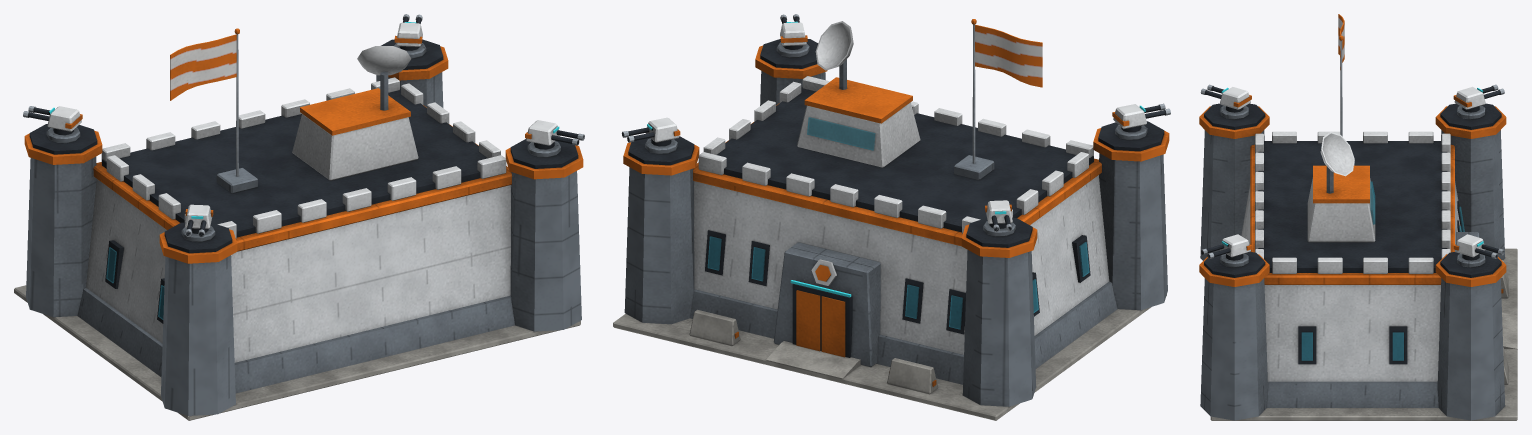
File: cuartel_humano.fbx
3 views of the same model, side by side, from view 1: azimuth 30°, elevation 25°; view 2: azimuth 150°, elevation 25°; view 3: azimuth 270°, elevation 25° (orthographic). The views are drawn at different scales.
Visible parts, largest first — view 1: cuartel_humano; view 2: cuartel_humano, cuartel_humano_cristal; view 3: cuartel_humano, cuartel_humano_cristal.
Boxes of the visible parts, left/top/right/bottom form: cuartel_humano: left=14, top=14, right=584, bottom=420; cuartel_humano: left=613, top=14, right=1170, bottom=420; cuartel_humano_cristal: left=707, top=117, right=1089, bottom=329; cuartel_humano: left=1199, top=14, right=1517, bottom=420; cuartel_humano_cristal: left=1301, top=181, right=1464, bottom=360.
Size of the model in its own units: 37 by 26.24 by 28.
3 materials, 3 textured.
